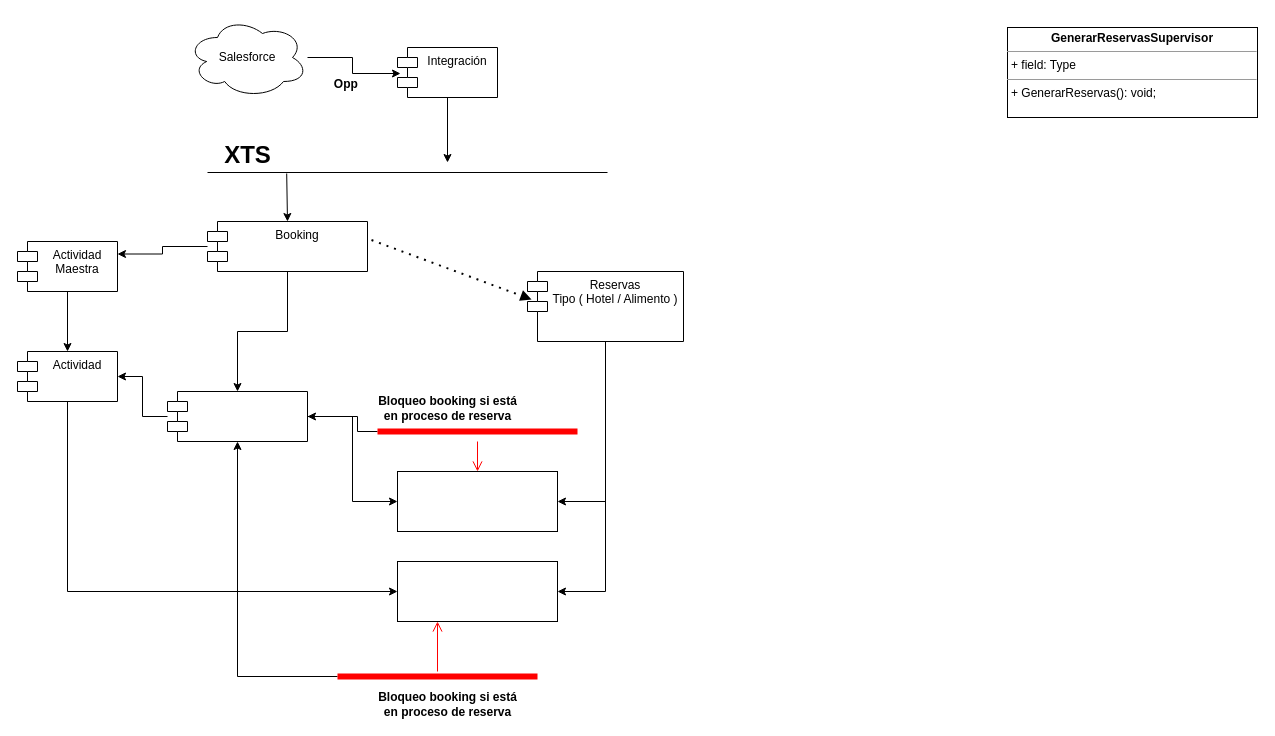
This 1275x736 diagram has some shape labels left out. The shapes that lost their labels are listed below. From the top down, each one's box as (x1, y1, x2, y2) in pixels, then its label:
(166, 390, 308, 442): Booking Detail
(396, 470, 558, 532): Reserva:Hotel
(396, 560, 558, 622): Reserva:Alimento
